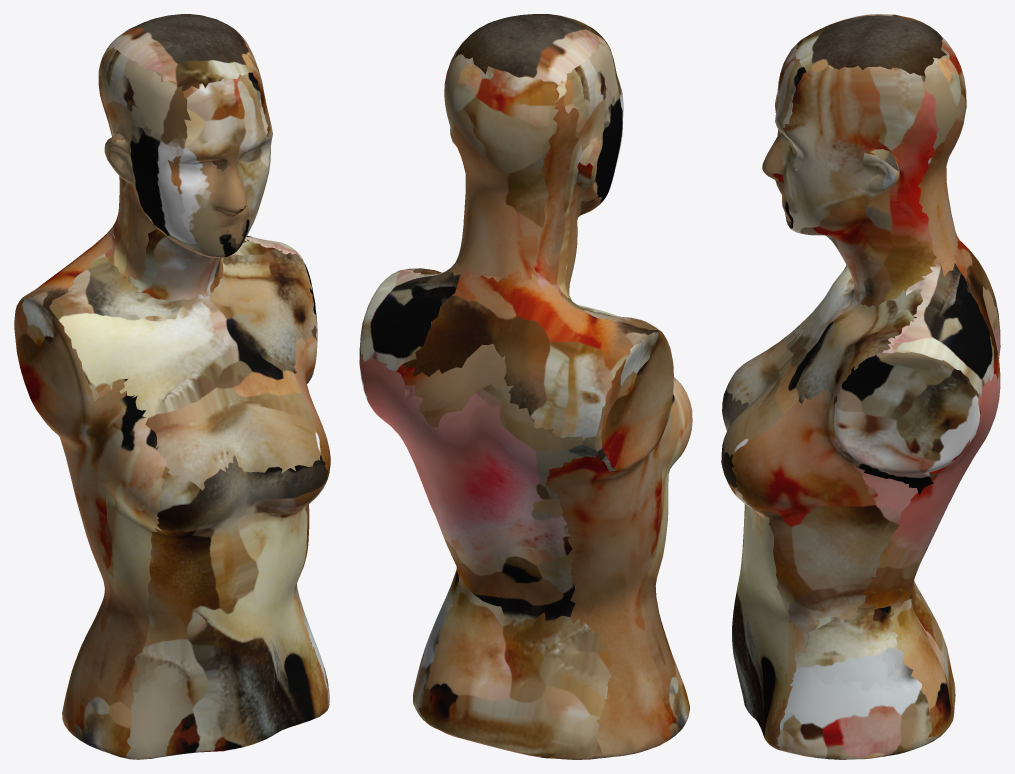
The picture shows the model from 3 angles, left to right: view 1: azimuth 30°, elevation 25°; view 2: azimuth 150°, elevation 25°; view 3: azimuth 270°, elevation 25°; orthographic projection. The views are drawn at different scales.
Parts seen in each view (by area): view 1: world.002; view 2: world.002; view 3: world.002.
Part boxes in pixels (x1,y1,x2,y2): world.002: (14, 14, 330, 759); world.002: (359, 14, 692, 759); world.002: (721, 14, 1000, 759).
Size of the model in its own units: 77.95 by 199 by 73.85.
1 material, 1 textured.
